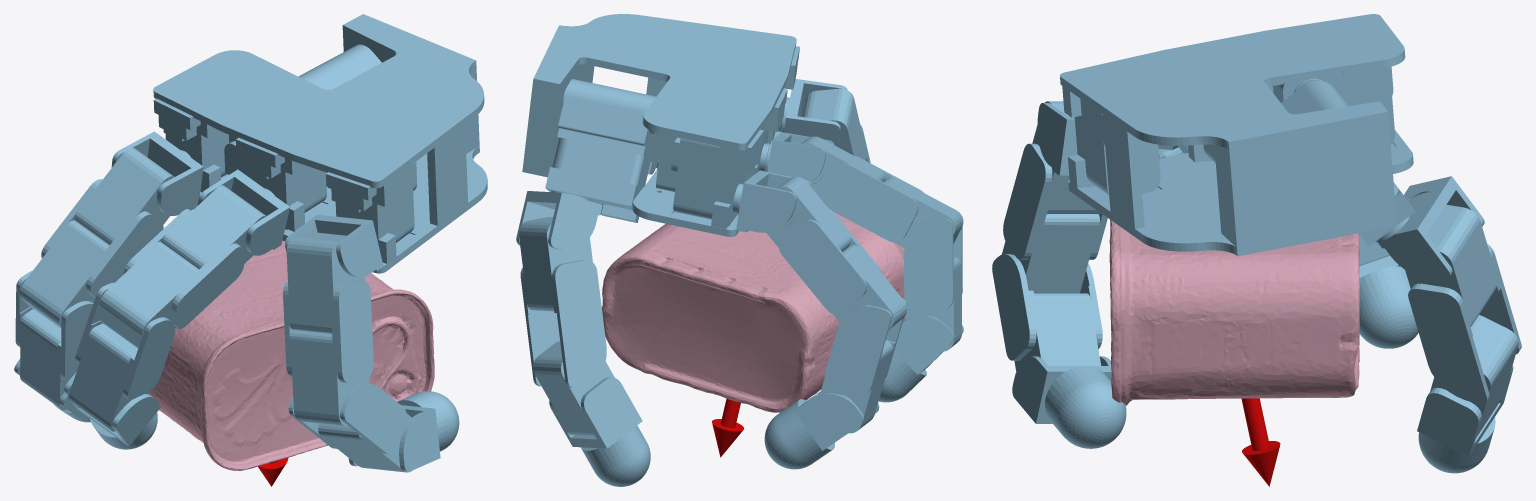
3 renders of one model, left to right at view 1: azimuth 30°, elevation 25°; view 2: azimuth 150°, elevation 25°; view 3: azimuth 270°, elevation 25°, orthographic. The views are drawn at different scales.
Visible parts, largest first — view 1: world, potted_meat_can.stl; view 2: world, potted_meat_can.stl; view 3: world, potted_meat_can.stl.
Part boxes in pixels (x1,y1,x2,y2): world: (14,14,487,486); potted_meat_can.stl: (148,240,434,470); world: (516,14,963,486); potted_meat_can.stl: (602,212,905,412); world: (992,14,1521,486); potted_meat_can.stl: (1109,219,1359,405).
Bounding box in the file's own units: 0.1845 × 0.1677 × 0.1769.
